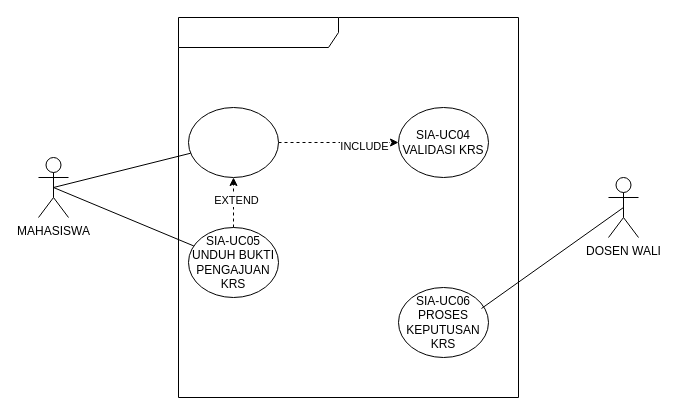
Some shapes in this 678 by 415 pixel diagram are drawn without their labels. The box of each missing label's shape, as (x1, y1, x2, y2) in pixels:
SIA-UC03 AJUKAN KRS: (188, 106, 278, 178)
Sistem Informasi akademik: (178, 16, 518, 398)
